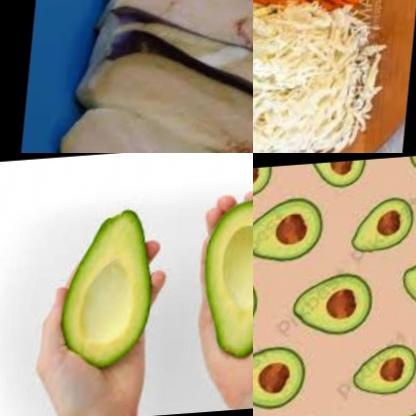avocado: (59, 196, 169, 375), (200, 193, 253, 392), (282, 268, 391, 337), (253, 187, 334, 266), (333, 343, 416, 415), (344, 196, 416, 265), (253, 341, 319, 416), (302, 164, 371, 200), (387, 246, 416, 326), (253, 168, 295, 198), (390, 157, 416, 193)
cabbage: (253, 9, 385, 153)
eggplant: (59, 0, 253, 153)
